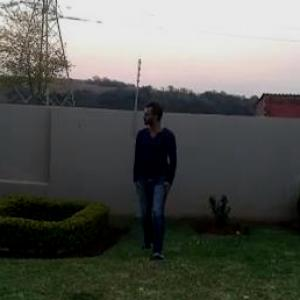follow: (123, 92, 178, 281)
